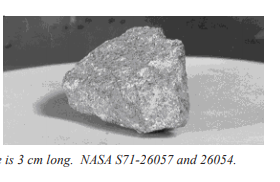Basalt: (50, 22, 197, 131)
